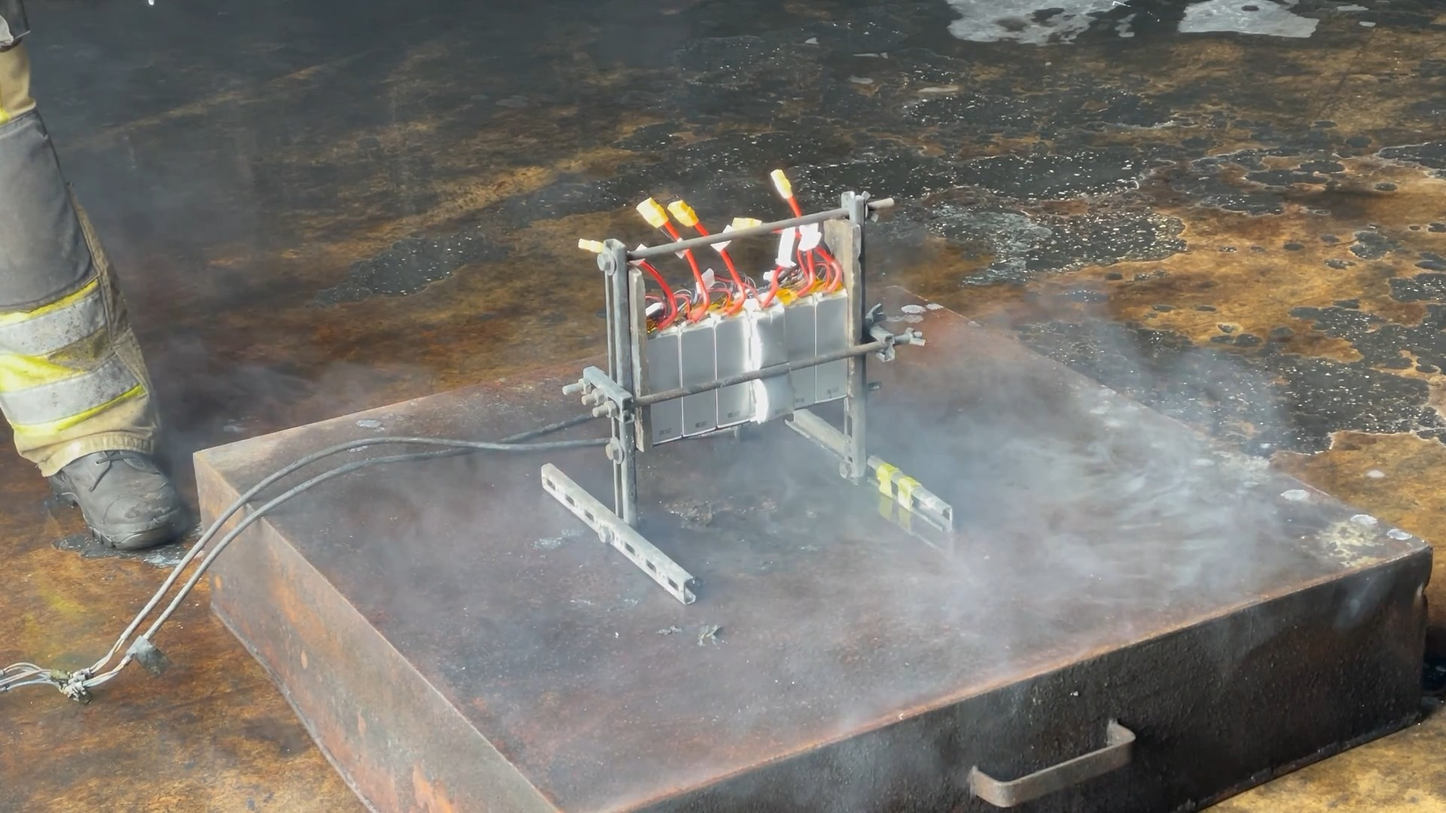smoke: (260, 273, 1251, 810)
